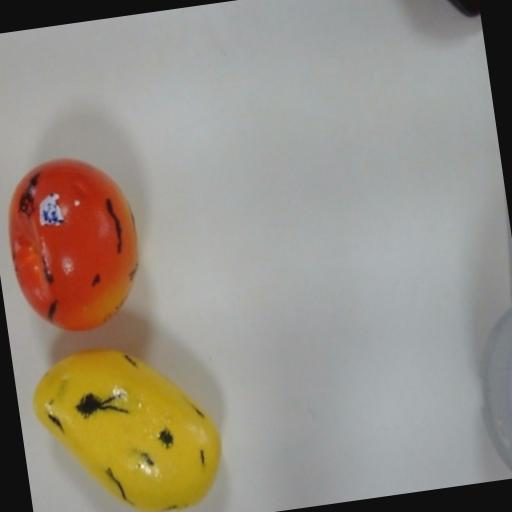Defective: (25, 327, 237, 512), (0, 138, 165, 345)
